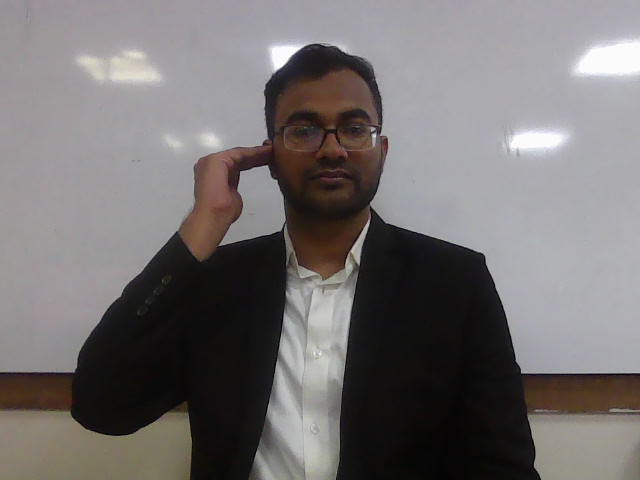Prottibondhi: (189, 145, 278, 223)
